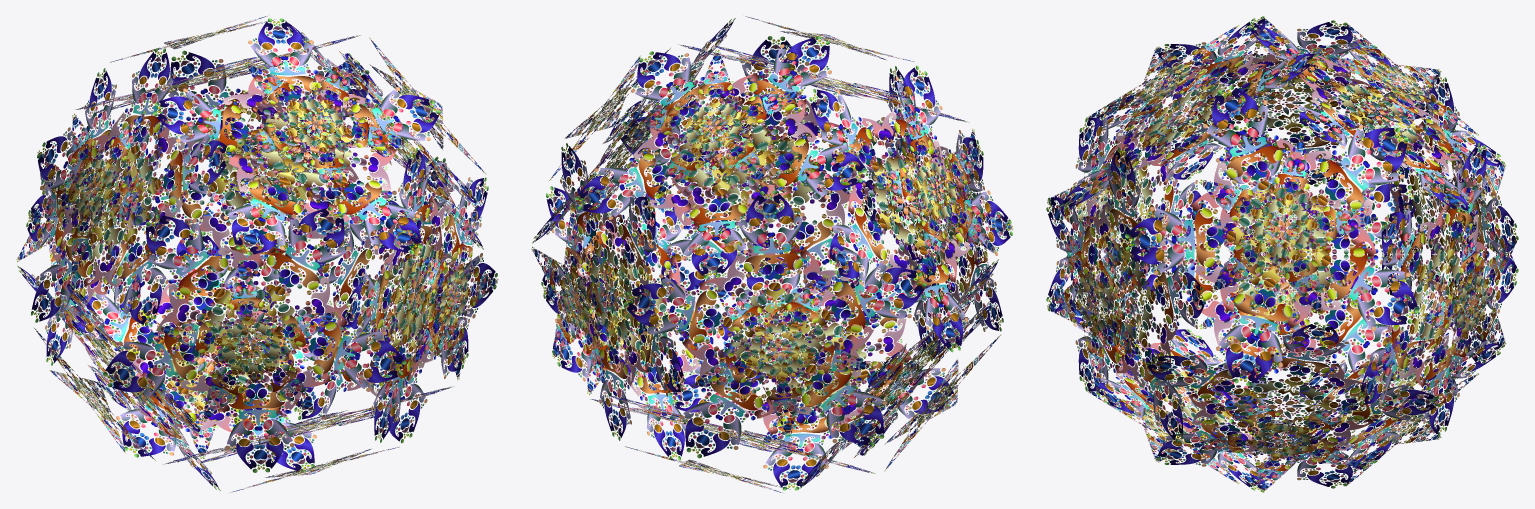
File: SnubDodecadodecahedron5.gltf
3 views of the same model, side by side, from view 1: azimuth 30°, elevation 25°; view 2: azimuth 150°, elevation 25°; view 3: azimuth 270°, elevation 25° (orthographic).
Visible parts, largest first — view 1: SnubDodecadodecahedron5; view 2: SnubDodecadodecahedron5; view 3: SnubDodecadodecahedron5.
Part boxes in pixels (<box>): SnubDodecadodecahedron5: <box>16,16,498,492</box>; SnubDodecadodecahedron5: <box>531,16,1013,492</box>; SnubDodecadodecahedron5: <box>1046,16,1518,492</box>.
Size of the model in its own units: 2.48 by 2.48 by 2.48.
Materials: 1 (1 with a texture image).
